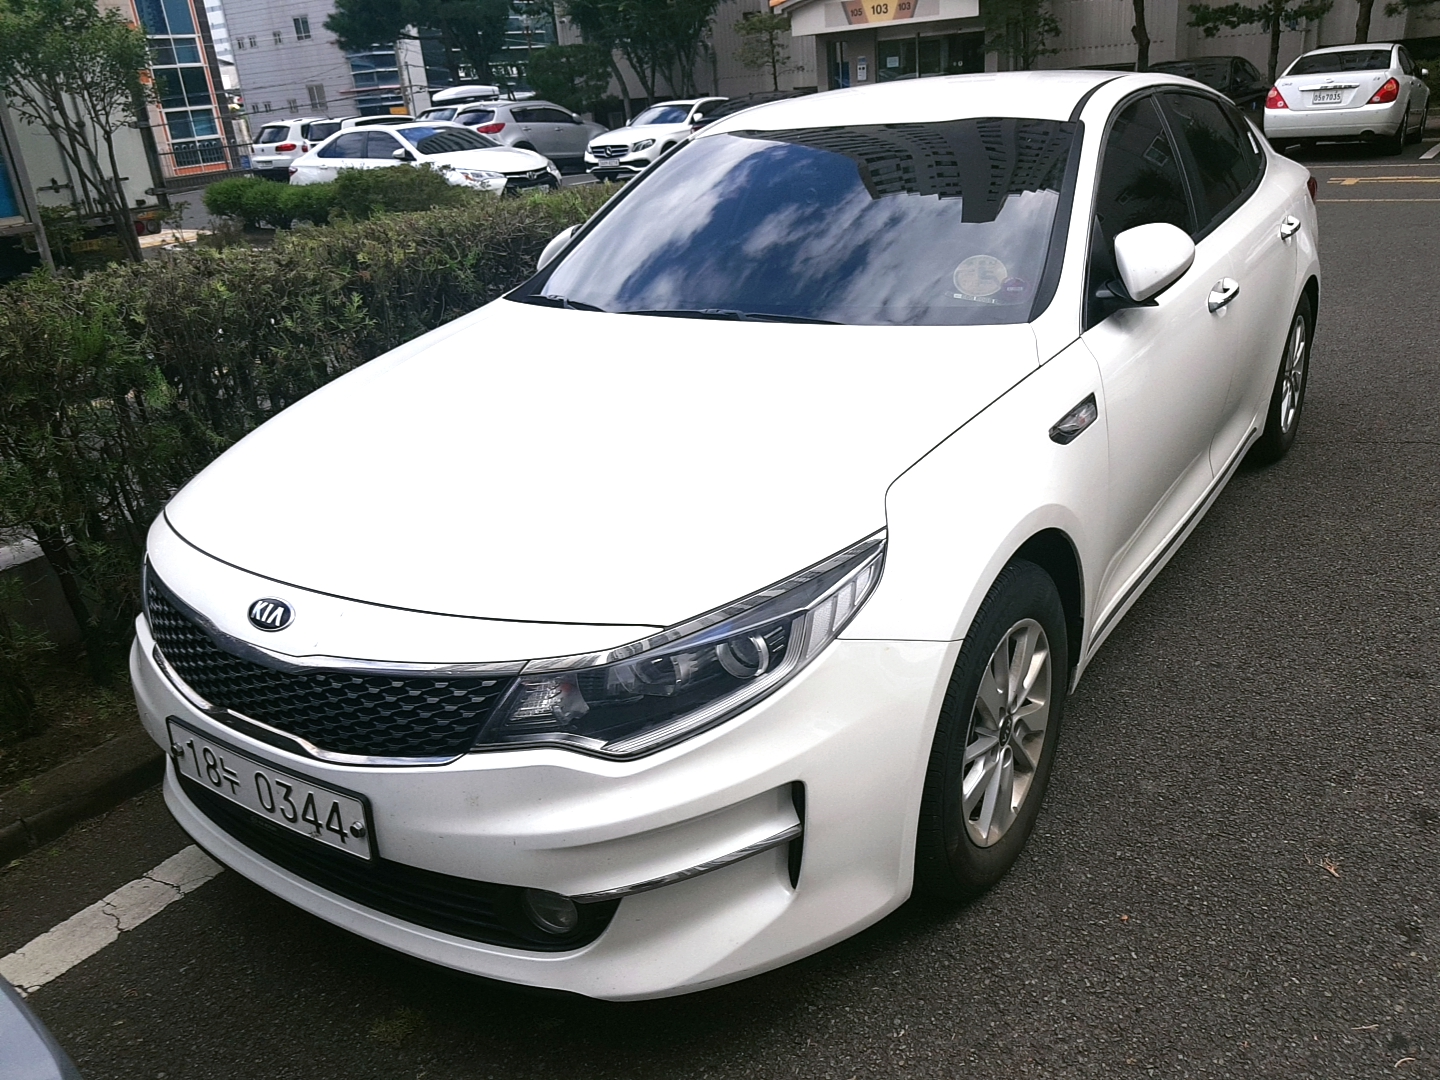disabled_parking: (951, 250, 1013, 299)
